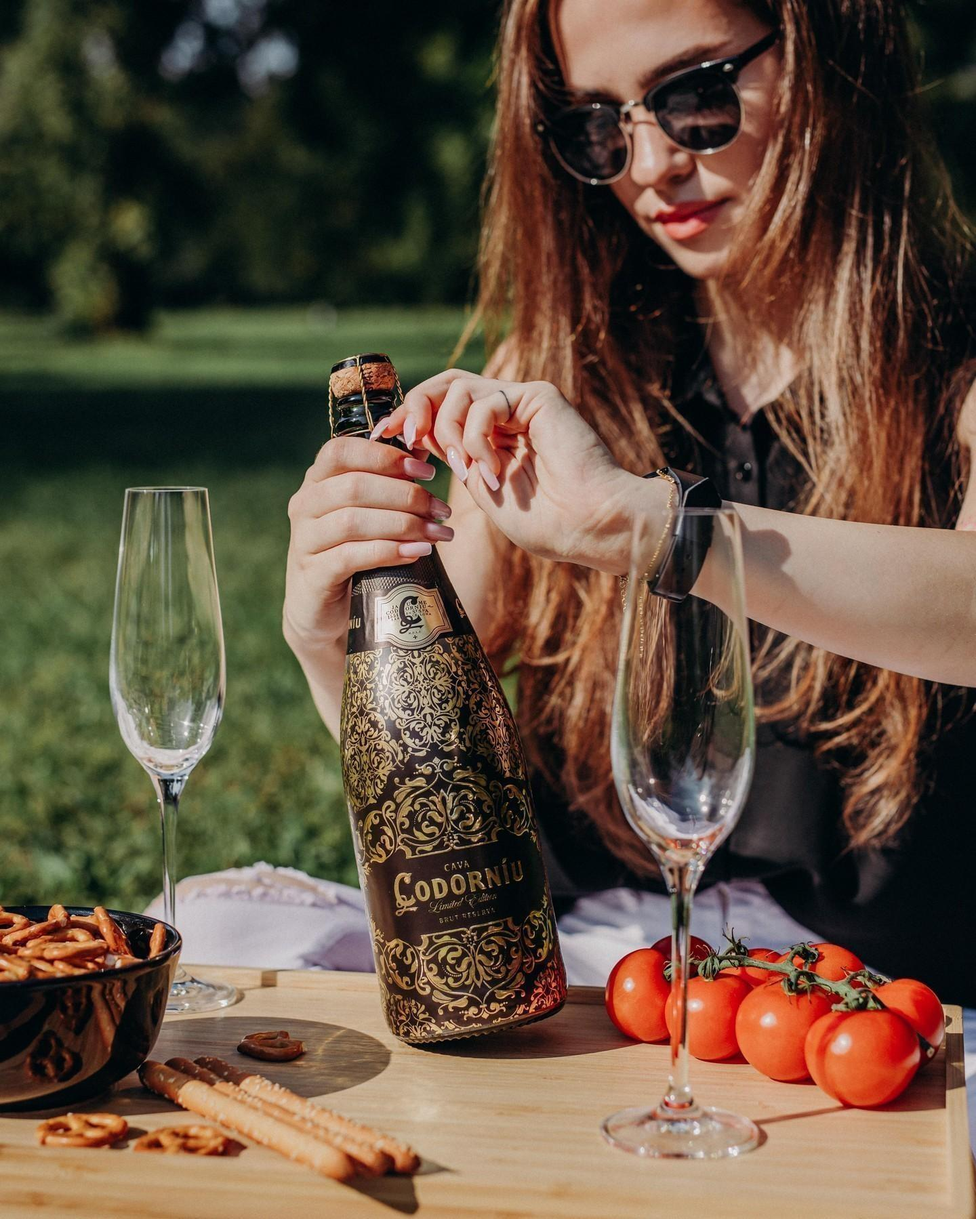bottle-glass: (317, 344, 576, 1052)
glass-wine: (600, 500, 766, 1168), (105, 482, 247, 1017)
